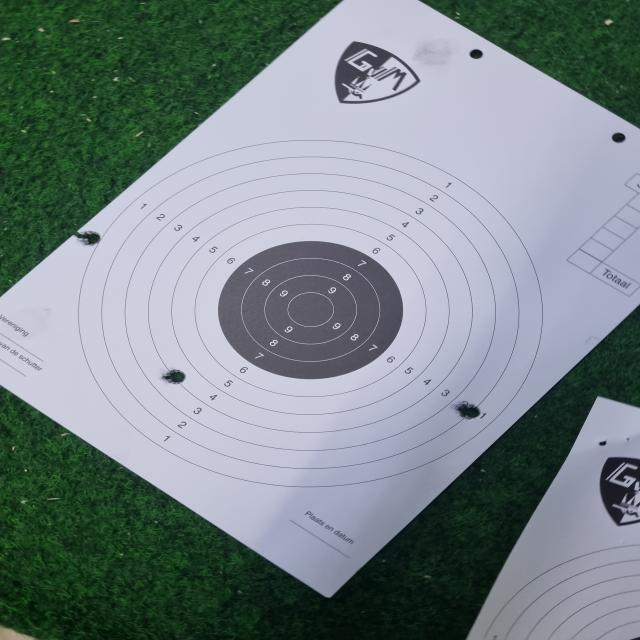0: (78, 230, 101, 246)
2: (454, 403, 481, 420)
4: (160, 369, 186, 385)
Target: (73, 140, 547, 486), (482, 541, 639, 640)
black_contour: (218, 240, 404, 380)
